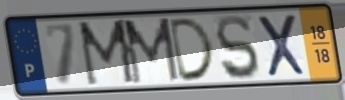7: (42, 21, 78, 88)
D: (167, 15, 218, 84)
M: (75, 16, 139, 89), (121, 15, 182, 87)
S: (214, 12, 263, 82)
X: (254, 12, 309, 80)
